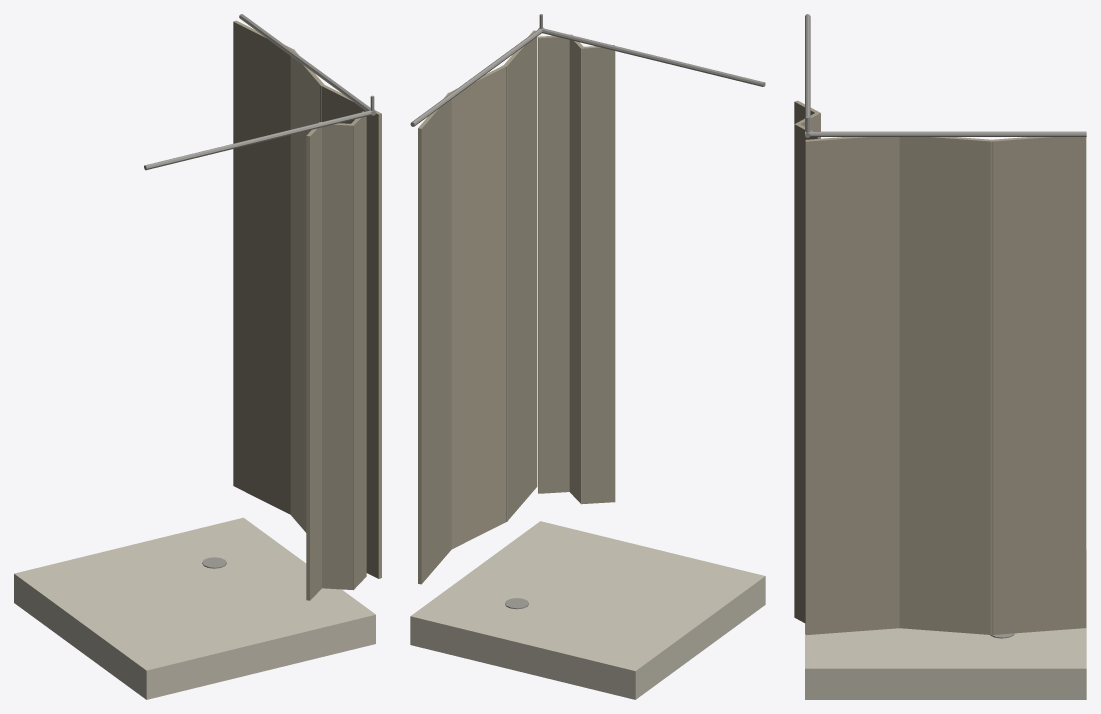
File: shower-tray-curtain.glb
The picture shows the model from 3 angles, left to right: view 1: azimuth 30°, elevation 25°; view 2: azimuth 150°, elevation 25°; view 3: azimuth 270°, elevation 25°; orthographic projection. The views are drawn at different scales.
Visible parts, largest first — view 1: plastic-light, enamel, brushed; view 2: plastic-light, enamel, brushed; view 3: plastic-light, enamel, brushed.
Part boxes in pixels (x1,y1,x2,y2): plastic-light: (233, 20, 381, 600); enamel: (14, 517, 375, 699); brushed: (144, 14, 375, 568); plastic-light: (418, 30, 615, 584); enamel: (410, 521, 765, 699); brushed: (410, 14, 765, 609); plastic-light: (794, 100, 1086, 635); enamel: (805, 550, 1086, 699); brushed: (805, 14, 1086, 638).
Bounding box in the file's own units: 0.9248 × 2.05 × 0.9335.
